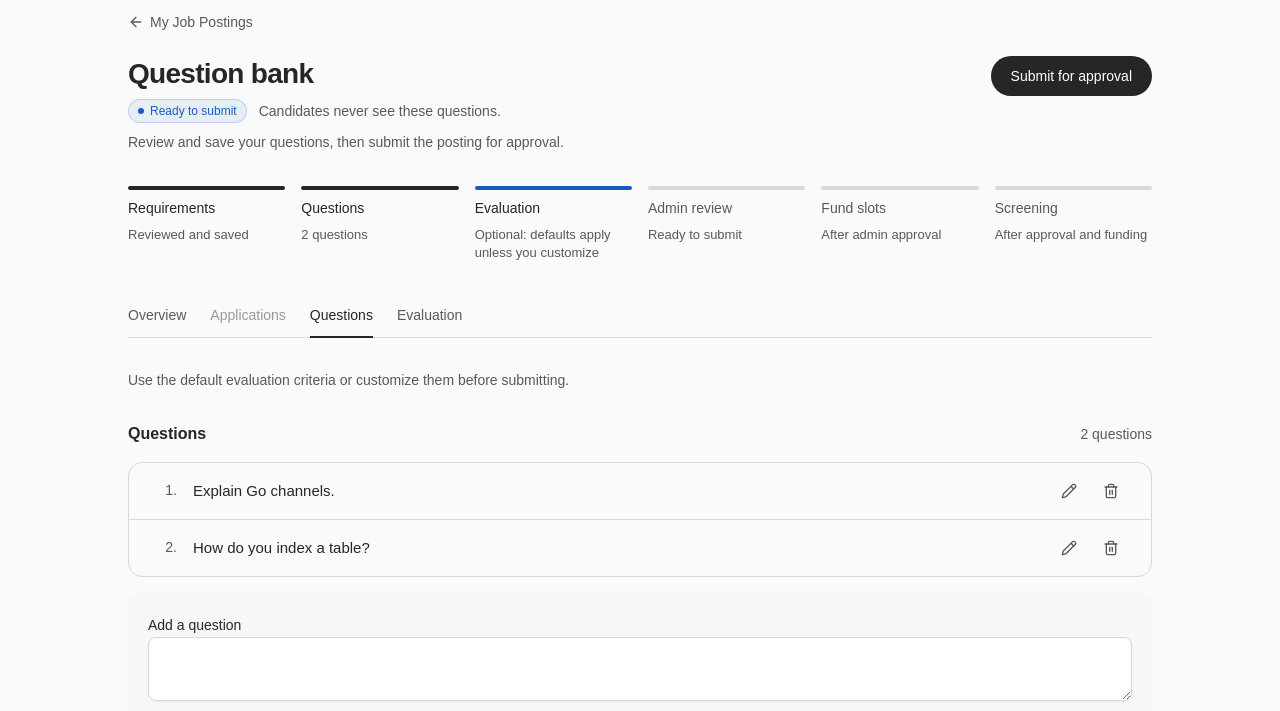
why submission is unavailable › names the question still being edited
The width and height of the screenshot is (1280, 711).
Expected: the button "Submit for approval" is enabled, [991,56,1152,96]
Expected: the text "to submit." is not shown
Step 1. Click the button named "Edit question 1" → (1069, 490), box [1049,470,1089,510]
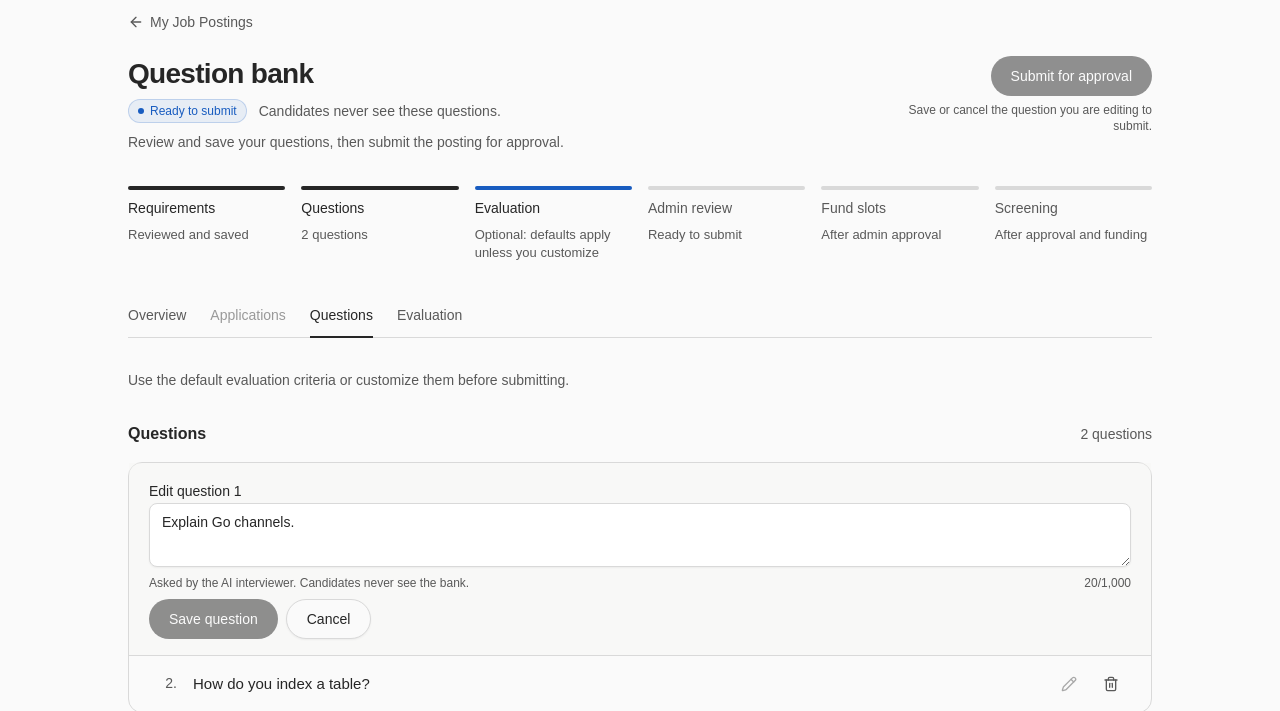
Result: the button "Submit for approval" is disabled at [991,56,1152,96]
Result: the text "Save or cancel the question you are editing to submit." is shown at [896,102,1152,134]
Step 2. Click the button "Cancel" → (328, 618), box [286,598,371,638]
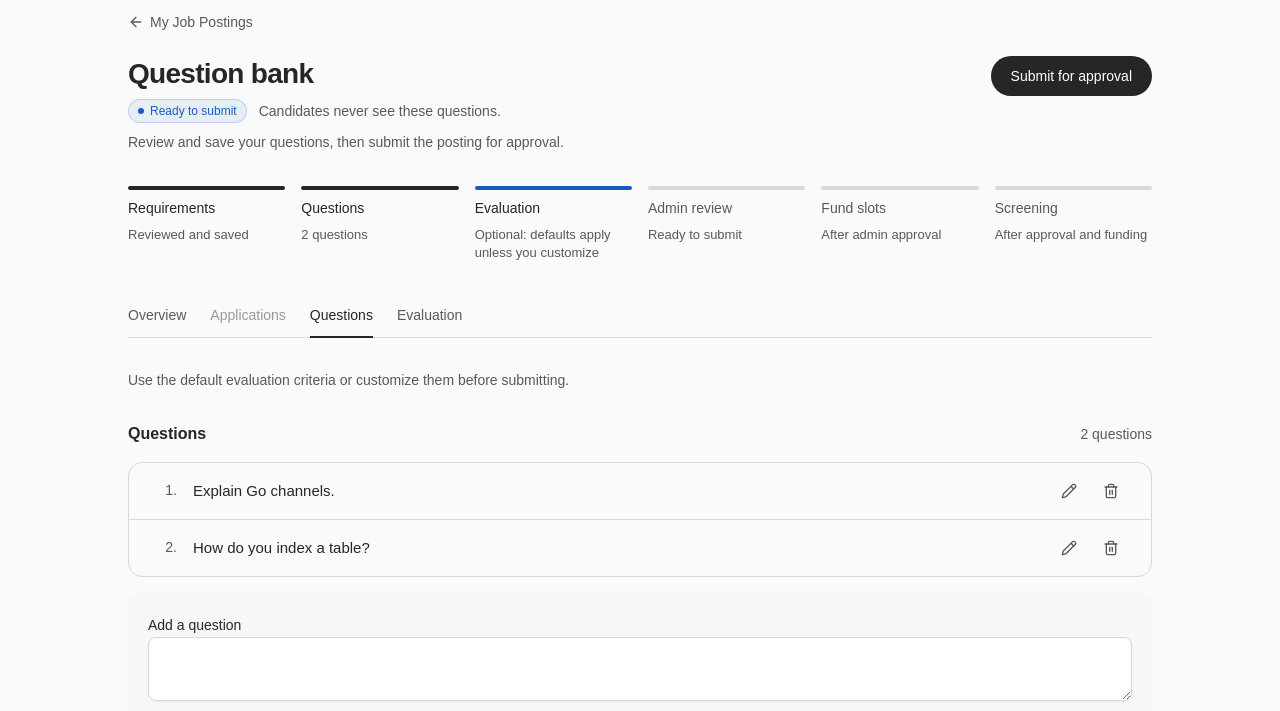
Result: the button "Submit for approval" is enabled at [991,56,1152,96]
